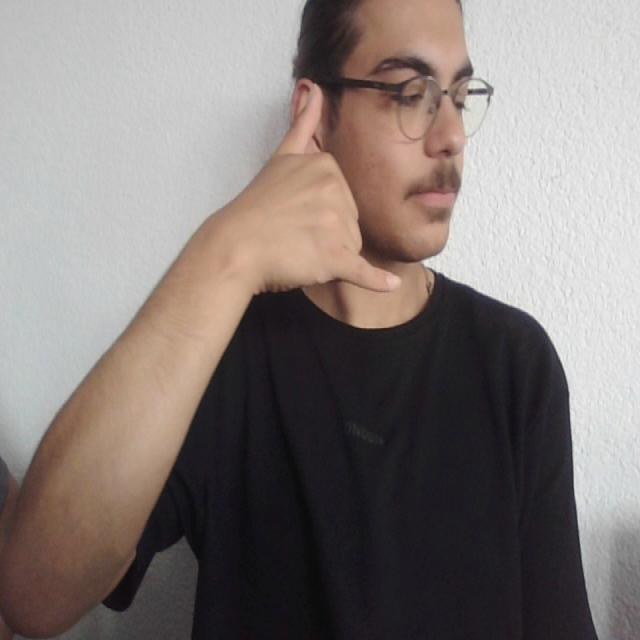Telefon: (264, 84, 406, 296)
